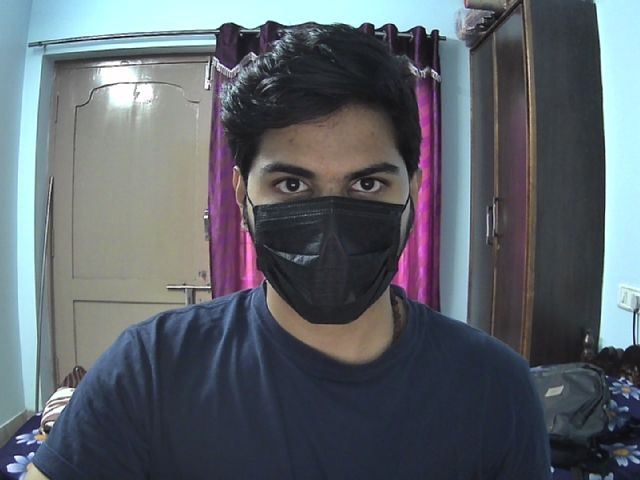Mask: (245, 195, 408, 325)
